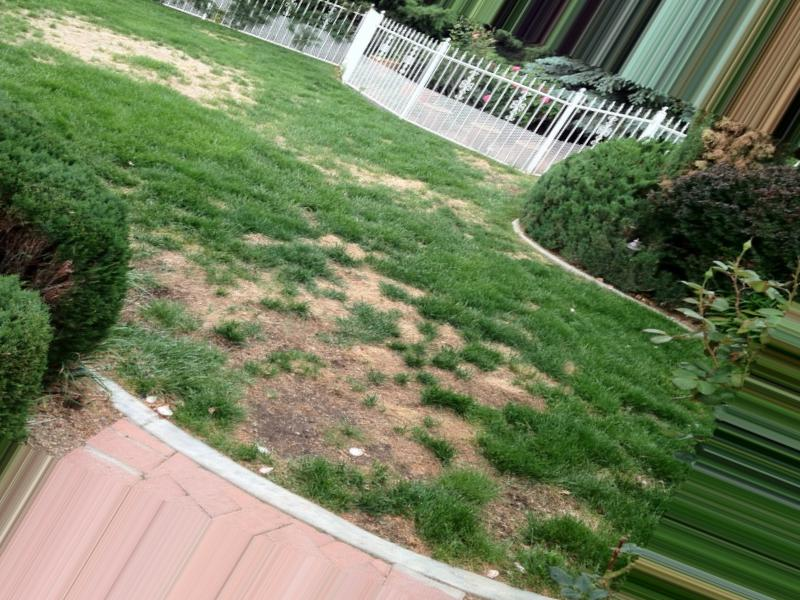patch: (270, 367, 396, 477), (430, 353, 542, 409), (250, 282, 350, 344), (415, 395, 468, 479), (148, 258, 219, 320), (345, 265, 398, 312)
